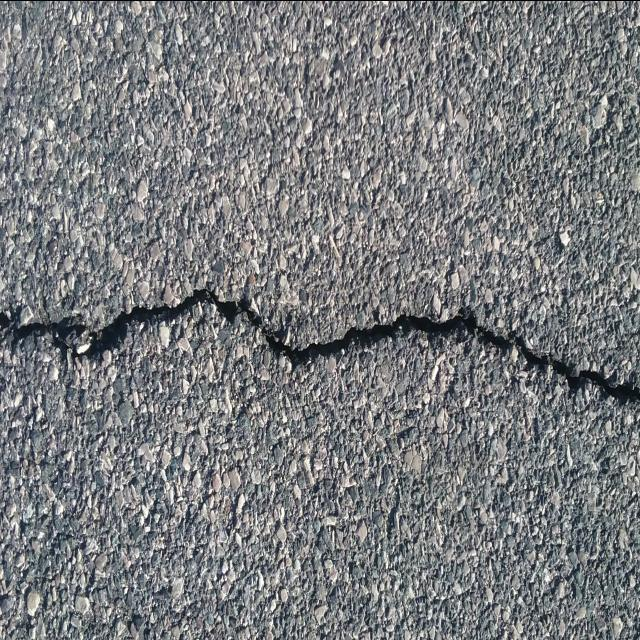Crack: (0, 285, 640, 409)
